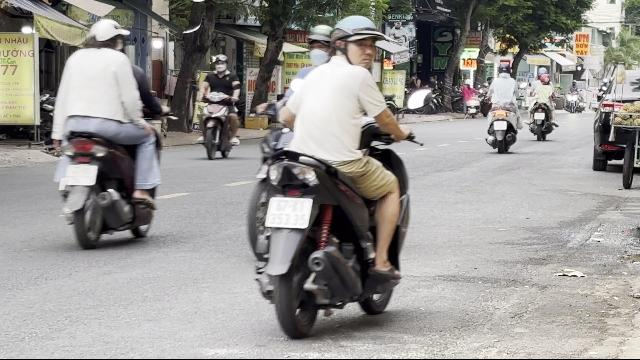helmet: (330, 14, 384, 68), (87, 17, 129, 53), (304, 23, 334, 65), (212, 54, 228, 74)
licenseplate: (266, 197, 312, 227), (64, 164, 98, 184)
motorcyclist: (240, 16, 418, 338), (46, 16, 166, 250), (194, 54, 242, 158)
